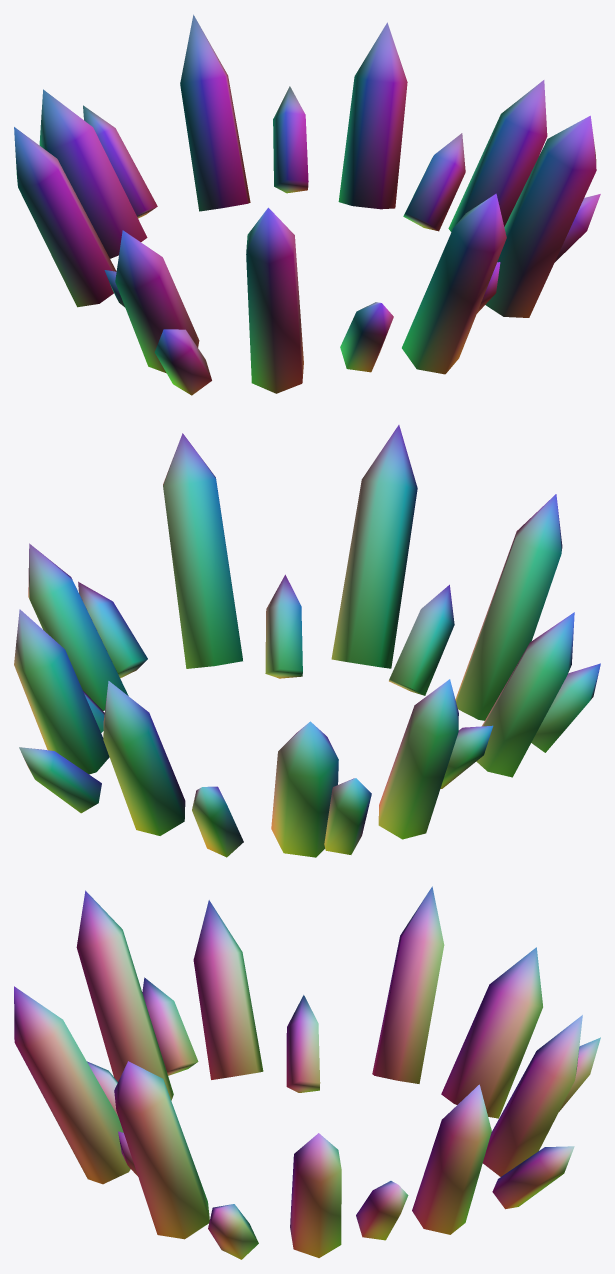
Rendered from SM_FX_FrostNova.fbx.
3 views of the same model, one above another, from view 1: azimuth 30°, elevation 25°; view 2: azimuth 150°, elevation 25°; view 3: azimuth 270°, elevation 25° (orthographic). The views are drawn at different scales.
Visible parts, largest first — view 1: SM_FX_FrostNova; view 2: SM_FX_FrostNova; view 3: SM_FX_FrostNova.
Part boxes in pixels (<box>): SM_FX_FrostNova: <box>14,14,600,395</box>; SM_FX_FrostNova: <box>14,425,600,857</box>; SM_FX_FrostNova: <box>14,886,600,1259</box>.
Size of the model in its own units: 1.33 by 0.5603 by 1.45.
